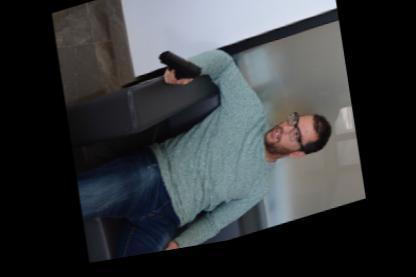pistol: (159, 46, 203, 91)
